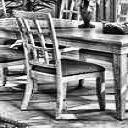chair_success: (9, 6, 112, 123)
